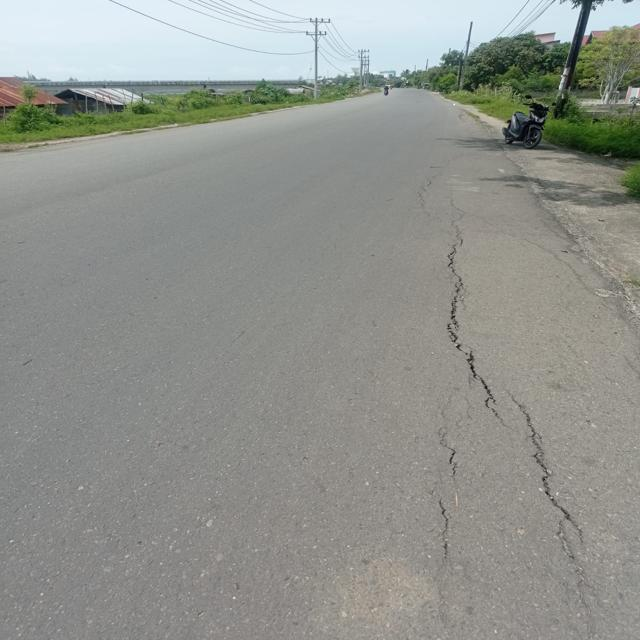Memanjang: (435, 189, 596, 569)
